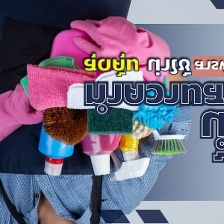cleaning_solution: (74, 62, 129, 177), (102, 62, 150, 183), (34, 61, 82, 180)
